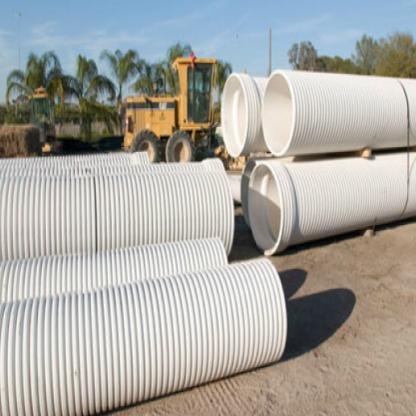PVC: (1, 153, 285, 415), (223, 74, 415, 255)
